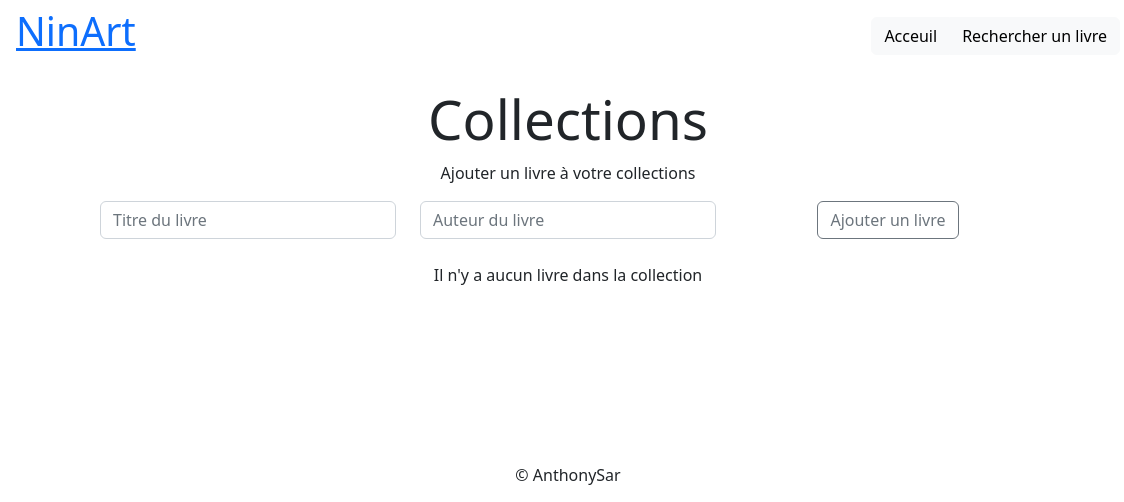
Page d'accueil, test des inputs, ajout d'un livre, suppresion d'un livre et de tous les livres › Ajout d'un livre
In the field with placeholder "Titre du livre": (248, 220) [100,201,396,239], type "My New Book"
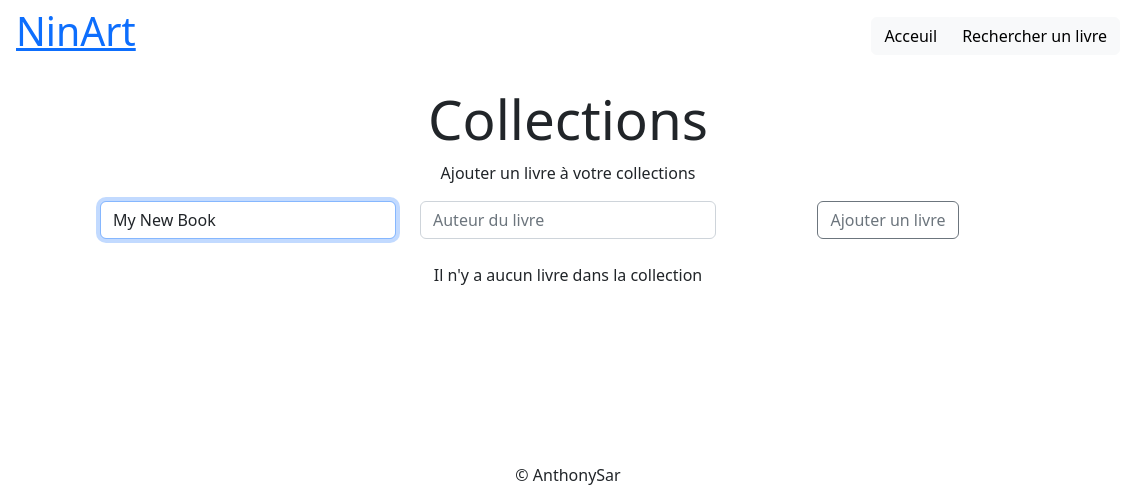
In the field with placeholder "Auteur du livre": (568, 220) [420,201,716,239], type "Jane Doe"
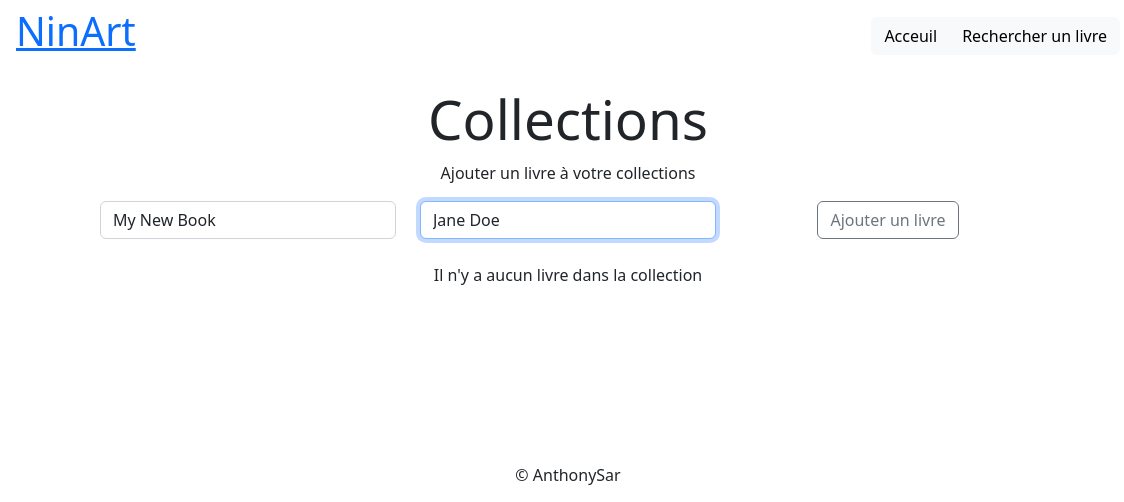
Click the button "Ajouter un livre": (888, 220) [817,201,958,239]
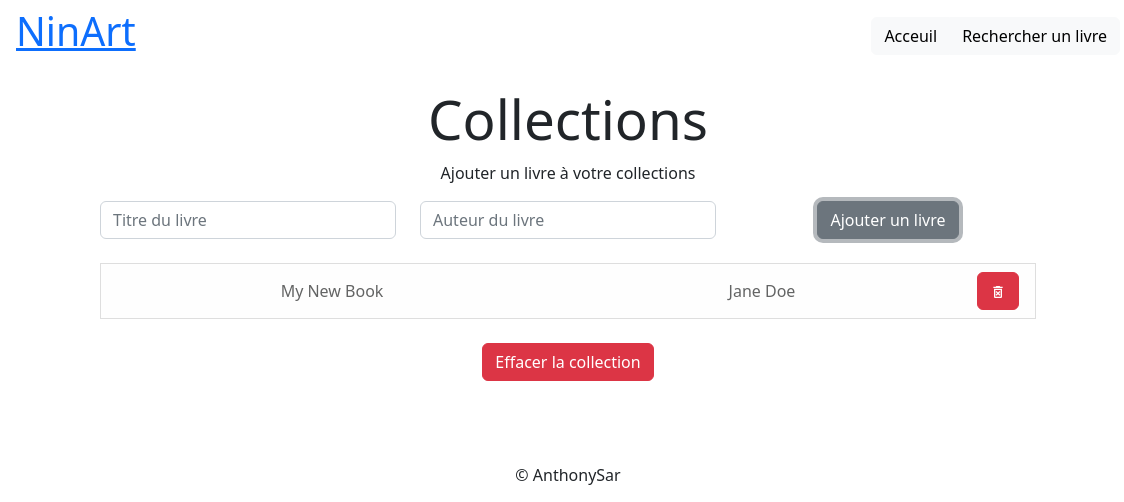
Expected: the text "My New Book" is shown, [281,280,383,302]
Expected: the text "Jane Doe" is shown, [729,280,795,302]
